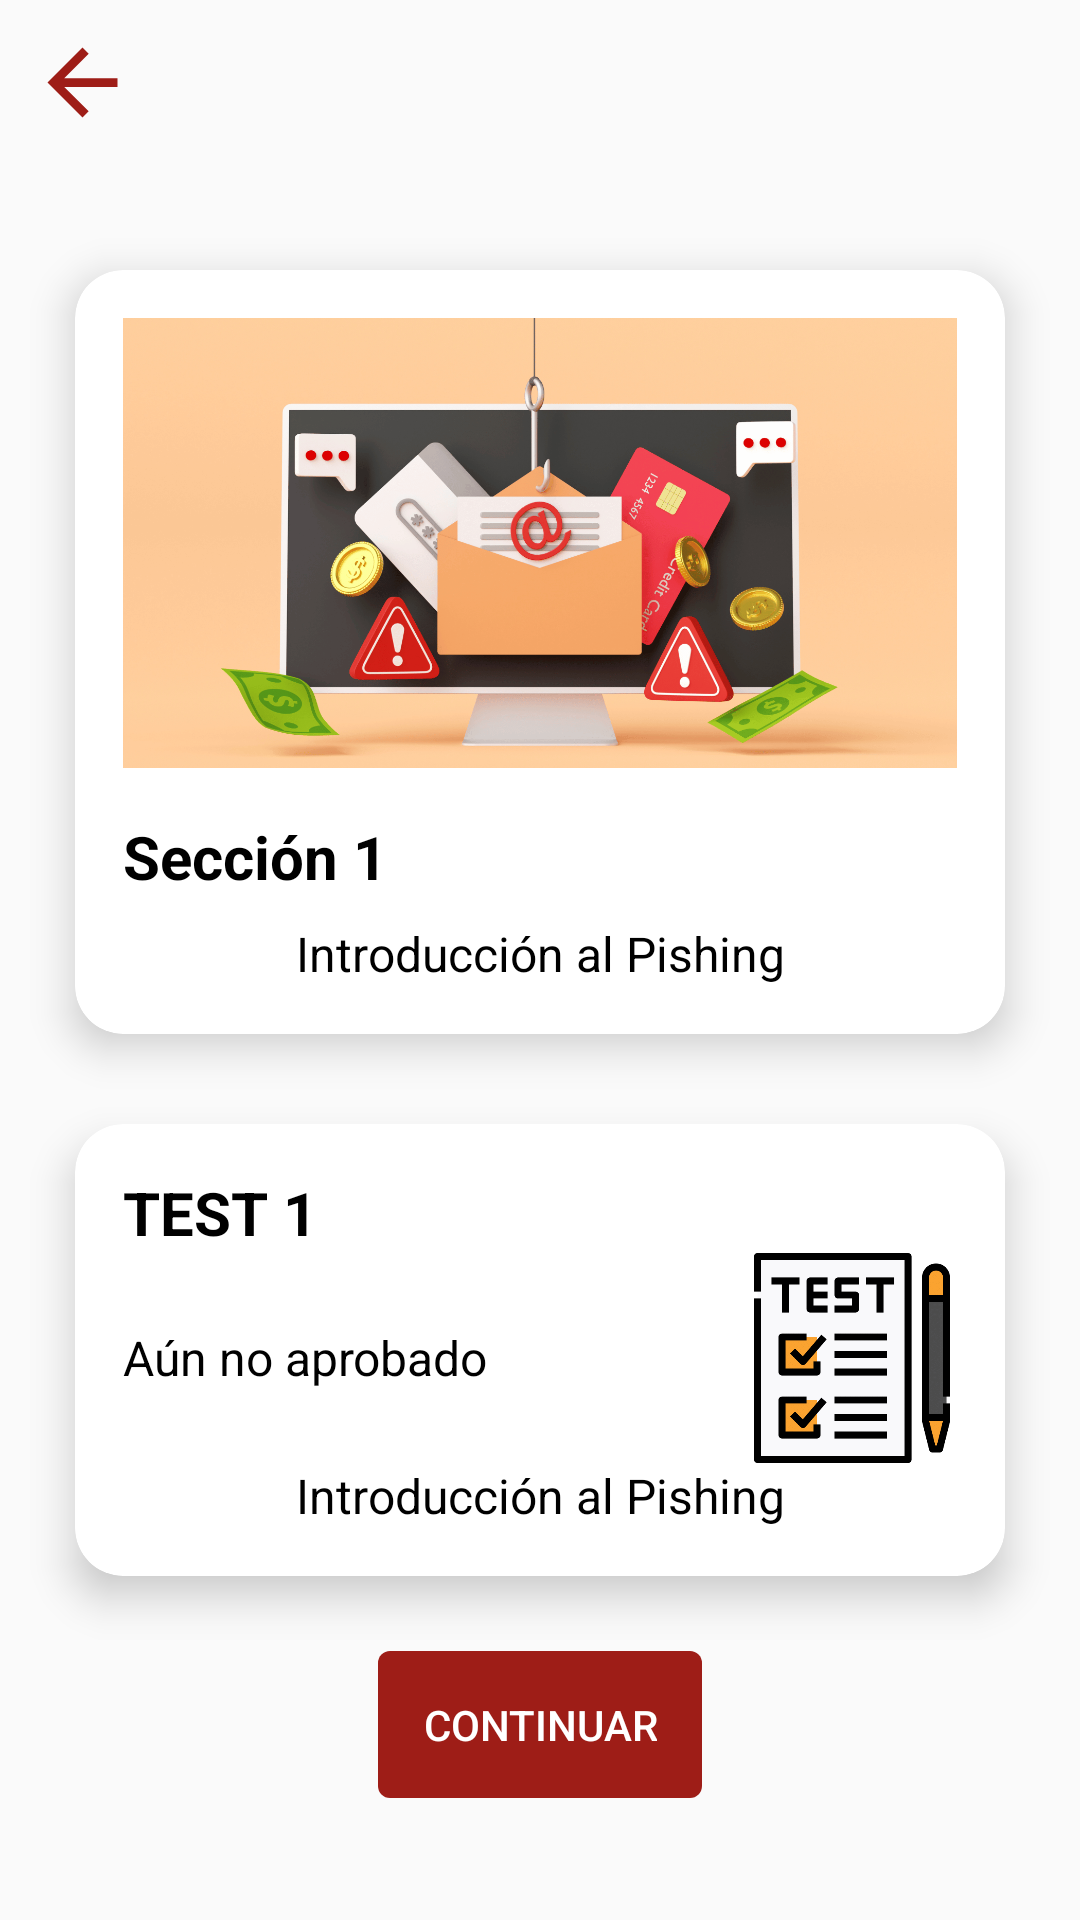

Point at icon controls on the screen. Image size 1080 × 1920, points as [x,y].
back arrow: [82,82]
